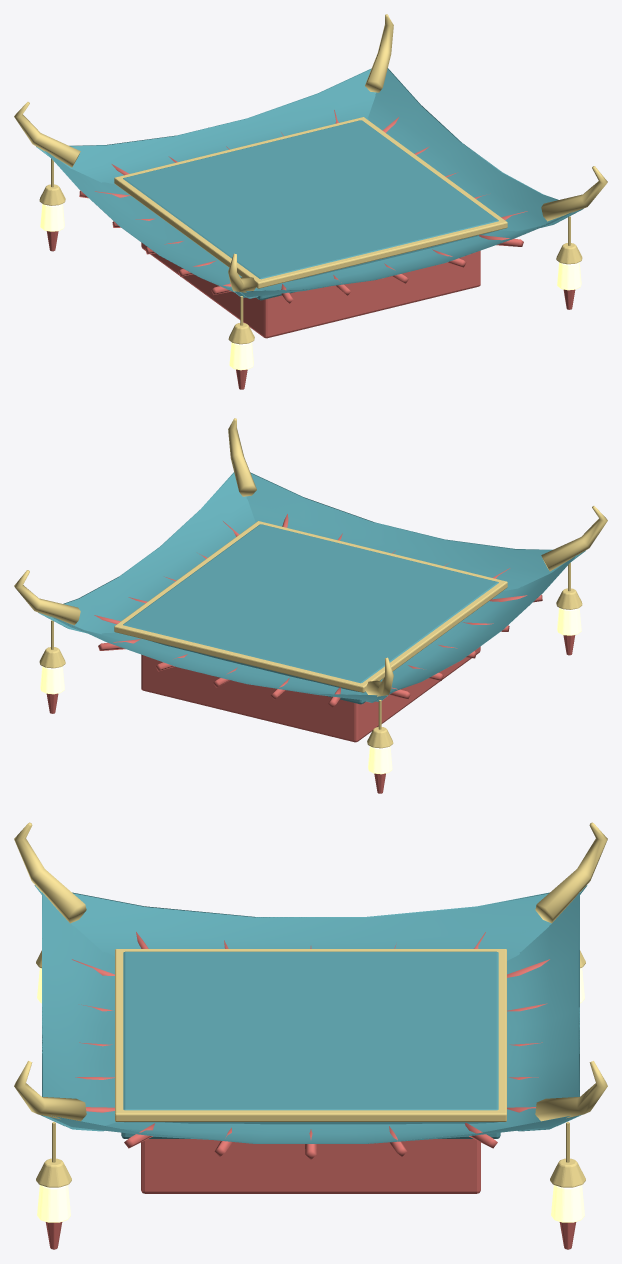
File: pagoda_eave.glb
The picture shows the model from 3 angles, top to bottom: view 1: azimuth 30°, elevation 25°; view 2: azimuth 150°, elevation 25°; view 3: azimuth 270°, elevation 25°; orthographic projection. The views are drawn at different scales.
Visible parts, largest first — view 1: CurvedEave_0, ChimeTassel_-1.0_-1.0, ChimeBell_-1.0_-1.0, CornerLantern_-1.0_-1.0; view 2: CurvedEave_0, ChimeTassel_-1.0_-1.0, ChimeBell_-1.0_-1.0, CornerLantern_-1.0_-1.0; view 3: CurvedEave_0, ChimeTassel_-1.0_-1.0, ChimeBell_-1.0_-1.0, CornerLantern_-1.0_-1.0.
Part boxes in pixels (x1,y1,x2,y2): CurvedEave_0: (36,68,583,300); ChimeTassel_-1.0_-1.0: (46,110,575,389); ChimeBell_-1.0_-1.0: (14,14,607,344); CornerLantern_-1.0_-1.0: (40,203,581,370); CurvedEave_0: (38,472,585,704); ChimeTassel_-1.0_-1.0: (46,514,575,793); ChimeBell_-1.0_-1.0: (14,418,607,748); CornerLantern_-1.0_-1.0: (40,607,581,774); CurvedEave_0: (34,885,587,1143); ChimeTassel_-1.0_-1.0: (45,932,576,1249); ChimeBell_-1.0_-1.0: (14,822,607,1187); CornerLantern_-1.0_-1.0: (37,968,584,1222).
Size of the model in its own units: 7.51 by 2.76 by 7.51.
